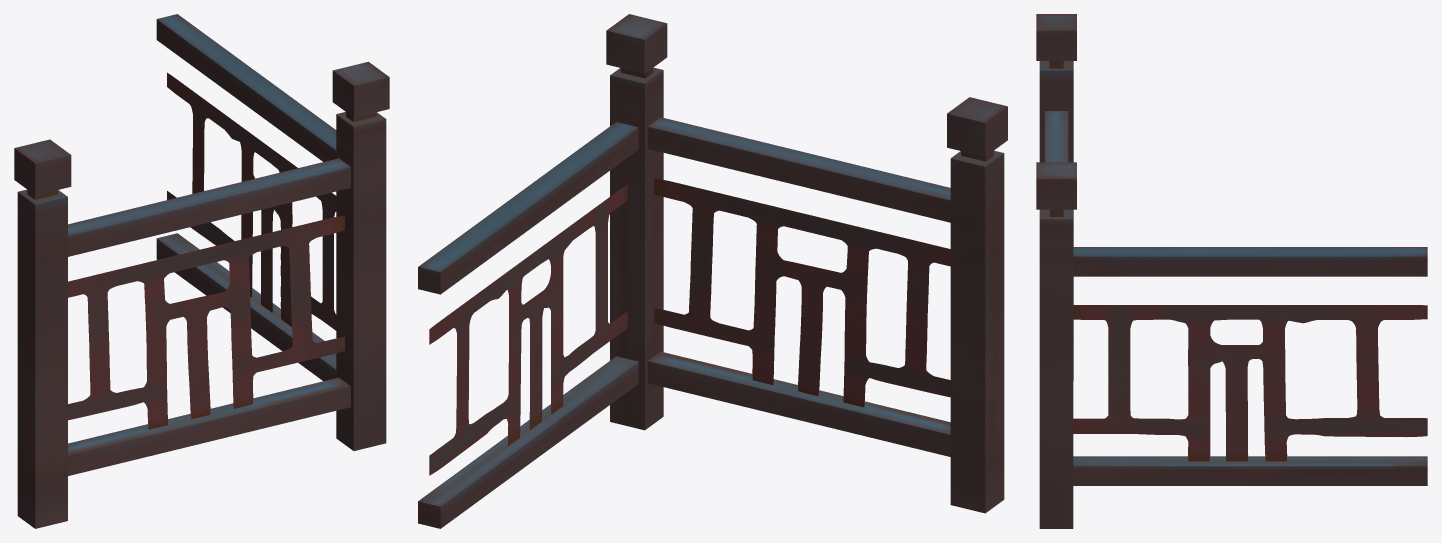
The model's file is BFenceCorner_B.fbx.
3 renders of one model, left to right at view 1: azimuth 30°, elevation 25°; view 2: azimuth 150°, elevation 25°; view 3: azimuth 270°, elevation 25°, orthographic. The views are drawn at different scales.
Parts seen in each view (by area): view 1: BFenceCorner_B; view 2: BFenceCorner_B; view 3: BFenceCorner_B.
Part boxes in pixels (x1,y1,x2,y2): BFenceCorner_B: (14, 14, 389, 528); BFenceCorner_B: (418, 14, 1007, 528); BFenceCorner_B: (1036, 14, 1427, 528).
Bounding box in the file's own units: 101 × 100 × 101.
